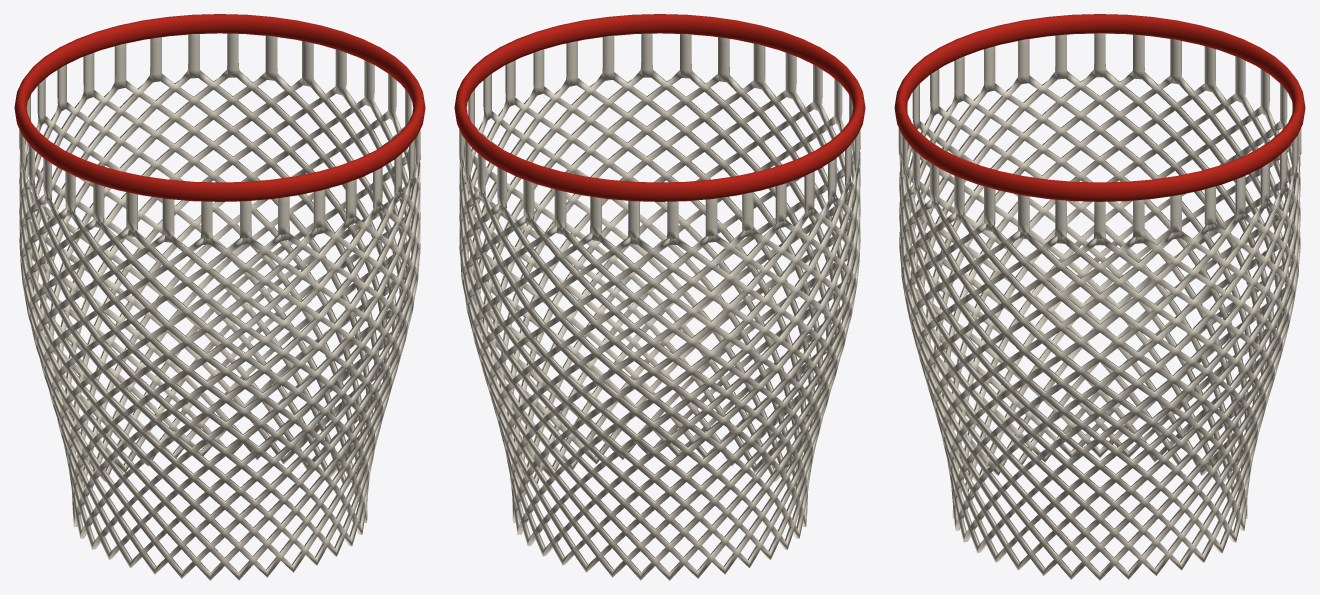
File: basketball_Net.fbx
3 views of the same model, side by side, from view 1: azimuth 30°, elevation 25°; view 2: azimuth 150°, elevation 25°; view 3: azimuth 270°, elevation 25° (orthographic).
Parts seen in each view (by area): view 1: Cylinder, Torus; view 2: Cylinder, Torus; view 3: Cylinder, Torus.
Boxes of the visible parts, x1=… form: Cylinder: x1=19, y1=33, x2=420, y2=580; Torus: x1=14, y1=14, x2=425, y2=201; Cylinder: x1=459, y1=33, x2=860, y2=580; Torus: x1=454, y1=14, x2=865, y2=201; Cylinder: x1=898, y1=33, x2=1301, y2=580; Torus: x1=894, y1=14, x2=1305, y2=201.
Size of the model in its own units: 206 by 233 by 206.
